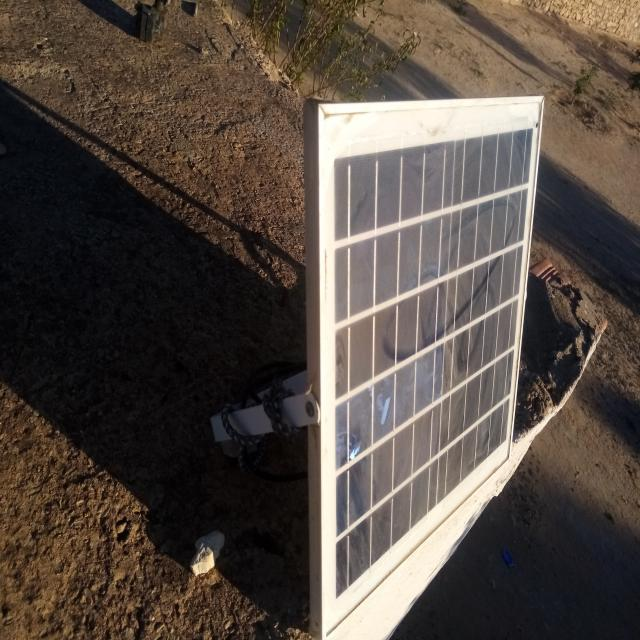faulty: (322, 101, 545, 632)
